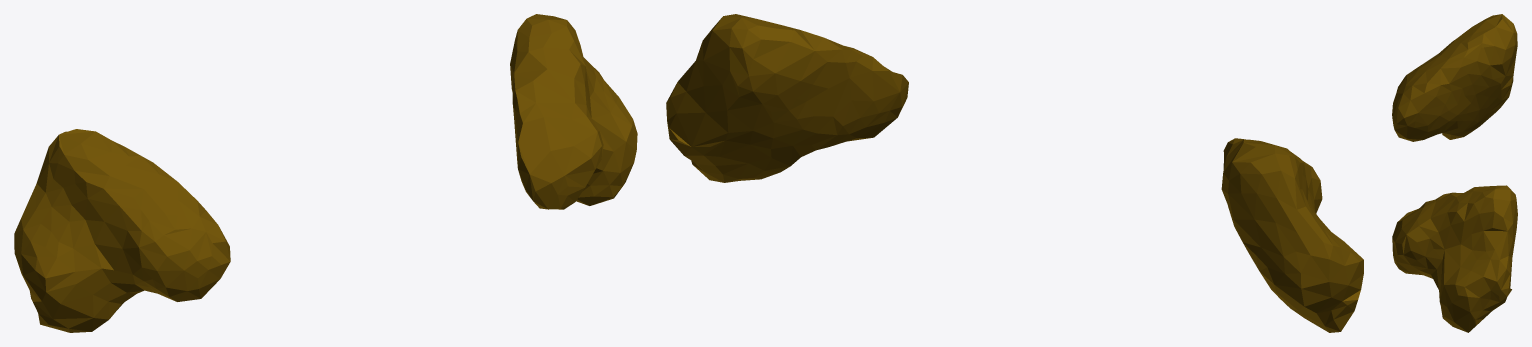
Rendered from 76-ECL-entorhinal cortex, caudal limited part-('0.4980', '0.3647', '0.0000').obj.
3 renders of one model, left to right at view 1: azimuth 30°, elevation 25°; view 2: azimuth 150°, elevation 25°; view 3: azimuth 270°, elevation 25°, orthographic. The views are drawn at different scales.
Bounding box in the file's own units: 145 × 39.9 × 35.39.
